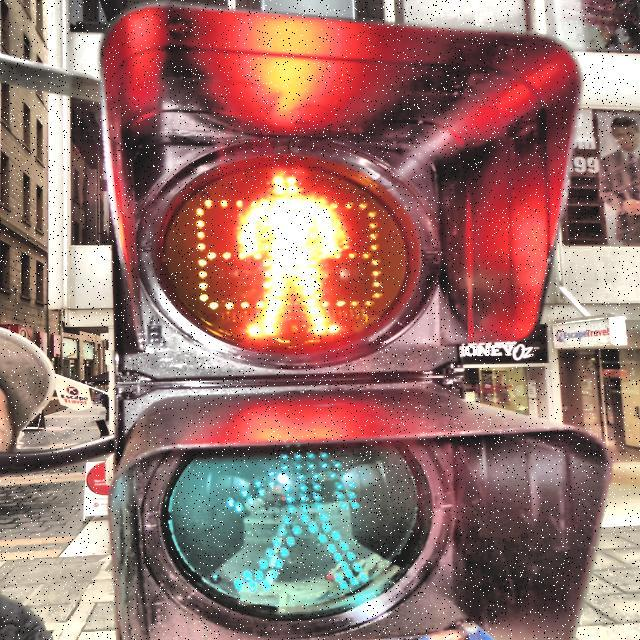red_light: (229, 167, 352, 340)
